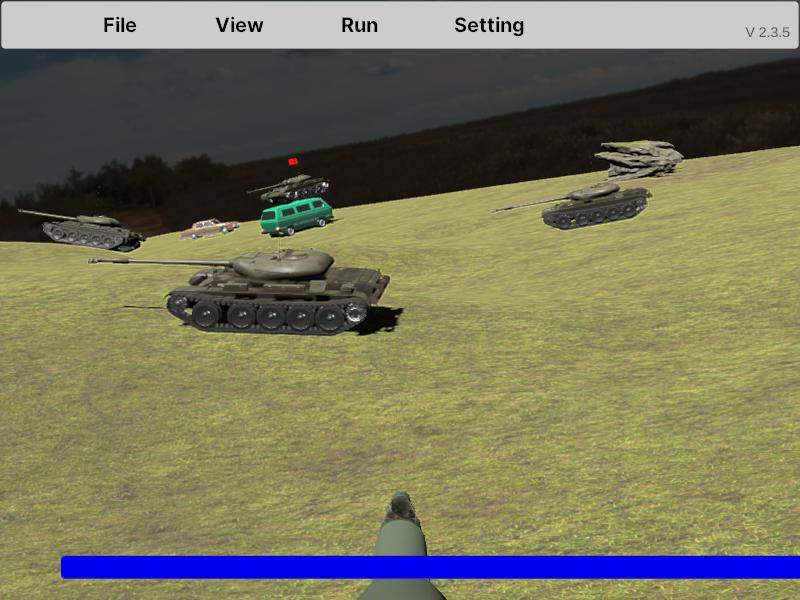Tank: (87, 248, 393, 334), (491, 183, 652, 231), (17, 209, 147, 251), (249, 173, 331, 204)
car: (181, 217, 240, 241)
